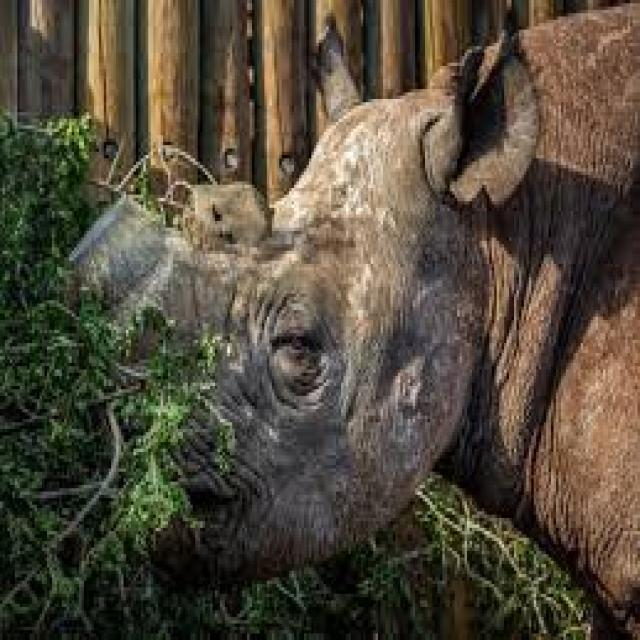Rinoceros: (63, 3, 640, 614)
